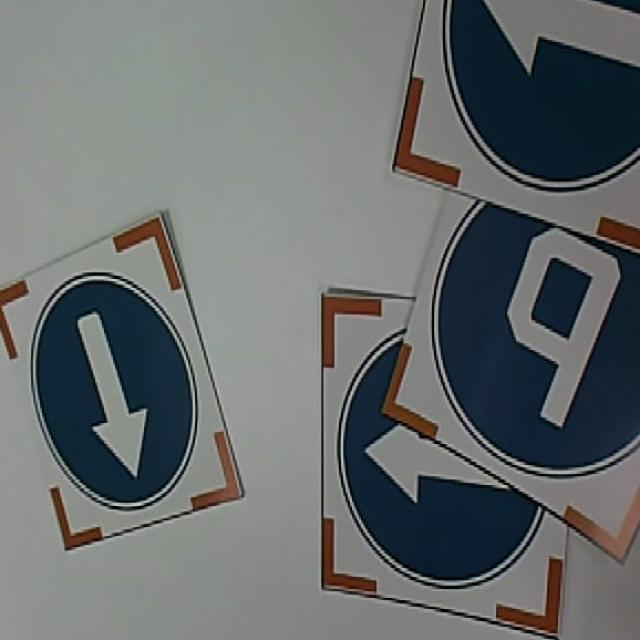parking: (378, 176, 640, 569)
straight: (320, 288, 572, 640), (0, 208, 246, 552), (392, 0, 640, 259)
